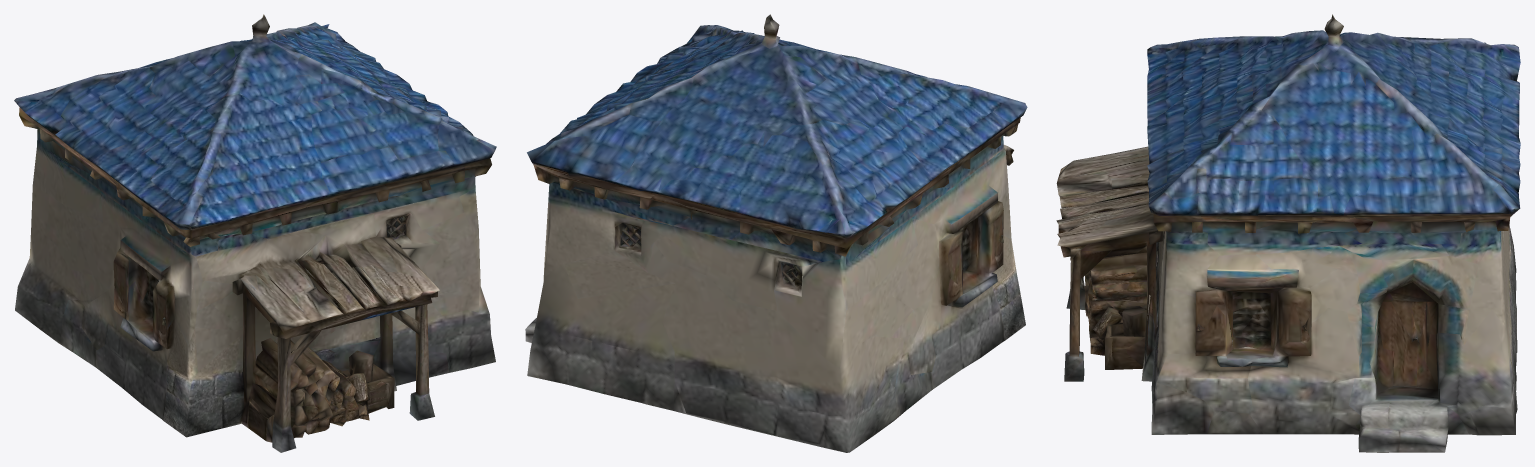
File: house_cottage_2.glb
3 renders of one model, left to right at view 1: azimuth 30°, elevation 25°; view 2: azimuth 150°, elevation 25°; view 3: azimuth 270°, elevation 25°, orthographic. The views are drawn at different scales.
Visible parts, largest first — view 1: tripo_node_f4536328-5a8a-4b85-a494-a01f031eb54b; view 2: tripo_node_f4536328-5a8a-4b85-a494-a01f031eb54b; view 3: tripo_node_f4536328-5a8a-4b85-a494-a01f031eb54b.
Part boxes in pixels (x1,y1,x2,y2): tripo_node_f4536328-5a8a-4b85-a494-a01f031eb54b: [14, 14, 496, 452]; tripo_node_f4536328-5a8a-4b85-a494-a01f031eb54b: [525, 14, 1027, 452]; tripo_node_f4536328-5a8a-4b85-a494-a01f031eb54b: [1056, 14, 1520, 452].
Size of the model in its own units: 0.9139 by 0.8034 by 0.9783.
Materials: 1 (1 with a texture image).
